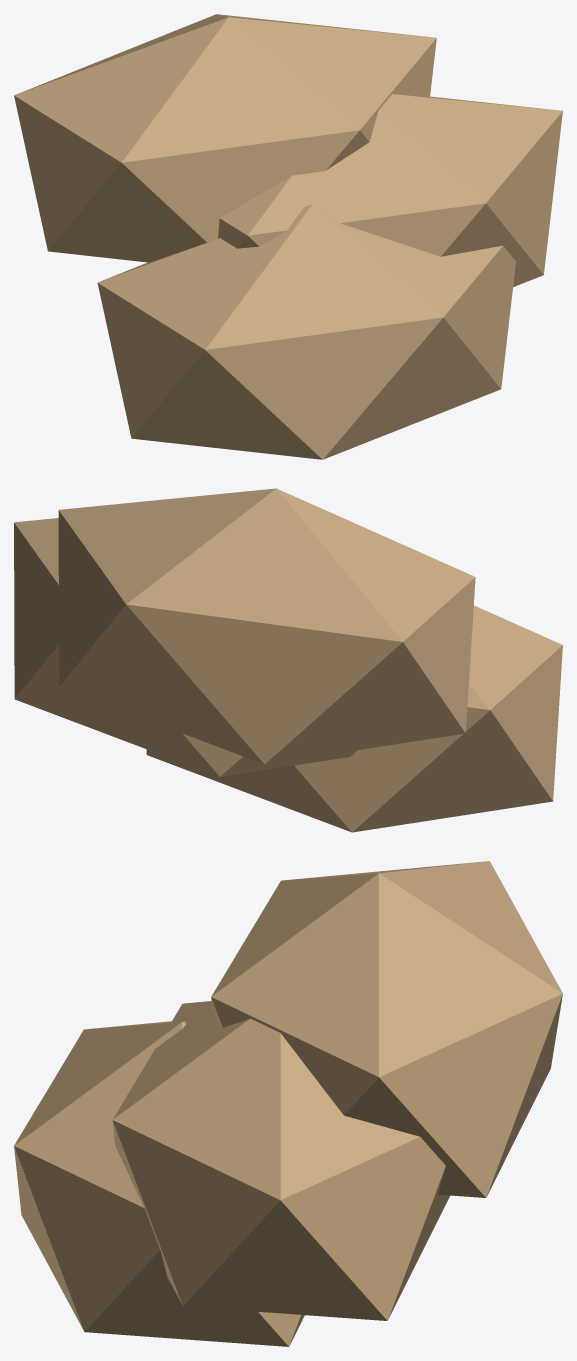
The model's file is item_018_hazelnuts_m.glb.
The picture shows the model from 3 angles, top to bottom: view 1: azimuth 30°, elevation 25°; view 2: azimuth 150°, elevation 25°; view 3: azimuth 270°, elevation 25°; orthographic projection. The views are drawn at different scales.
Parts seen in each view (by area): view 1: item_018_hazelnuts_m; view 2: item_018_hazelnuts_m; view 3: item_018_hazelnuts_m.
Boxes of the visible parts, x1,y1,x2,y2 form: item_018_hazelnuts_m: [14, 14, 562, 459]; item_018_hazelnuts_m: [14, 488, 562, 832]; item_018_hazelnuts_m: [14, 861, 562, 1346].
Size of the model in its own units: 0.3928 by 0.2969 by 0.3342.
